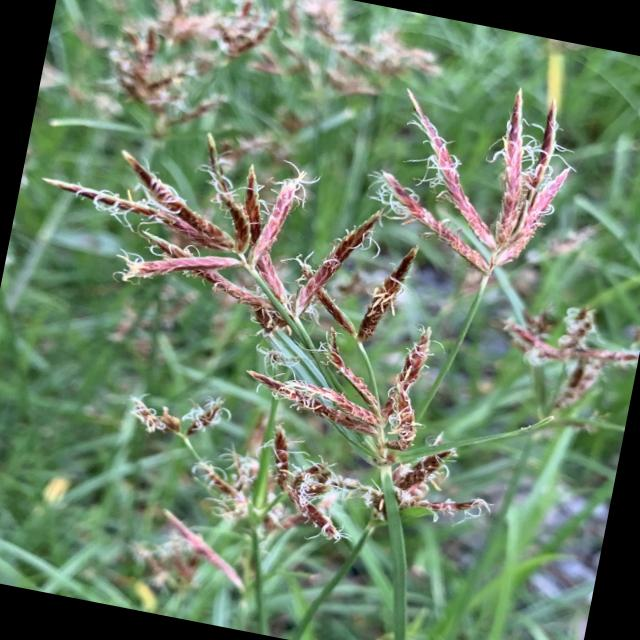cyperus: (1, 10, 640, 560), (104, 363, 380, 560), (79, 0, 279, 132), (261, 0, 445, 111), (493, 280, 640, 415), (98, 489, 267, 604)
